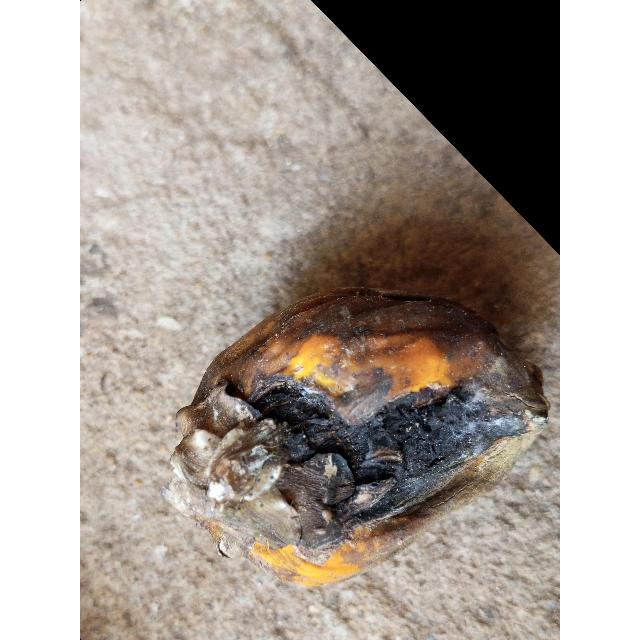damaged: (166, 288, 547, 590)
